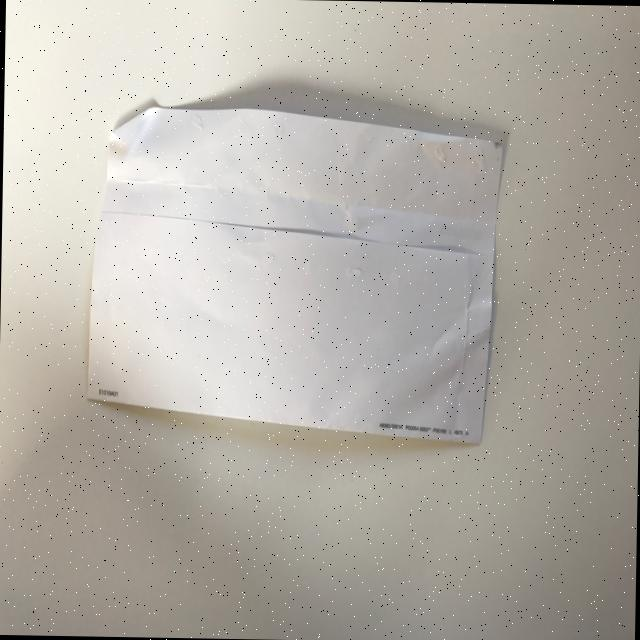paper: (86, 103, 503, 445)
